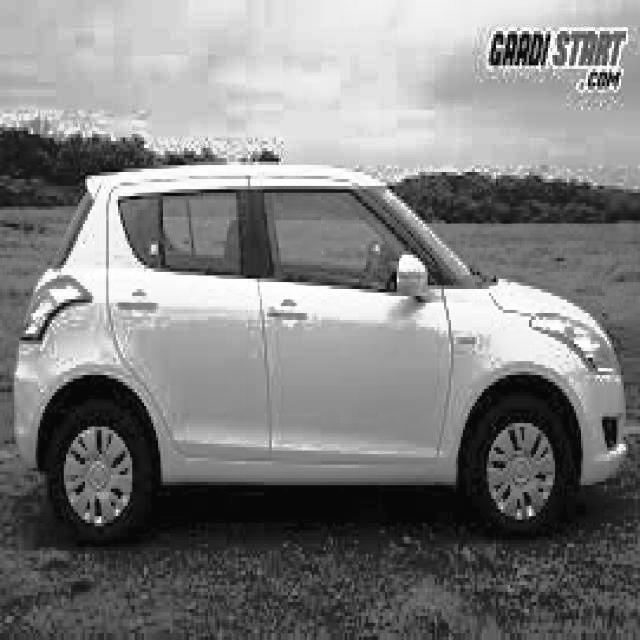Car: (17, 156, 632, 559)
